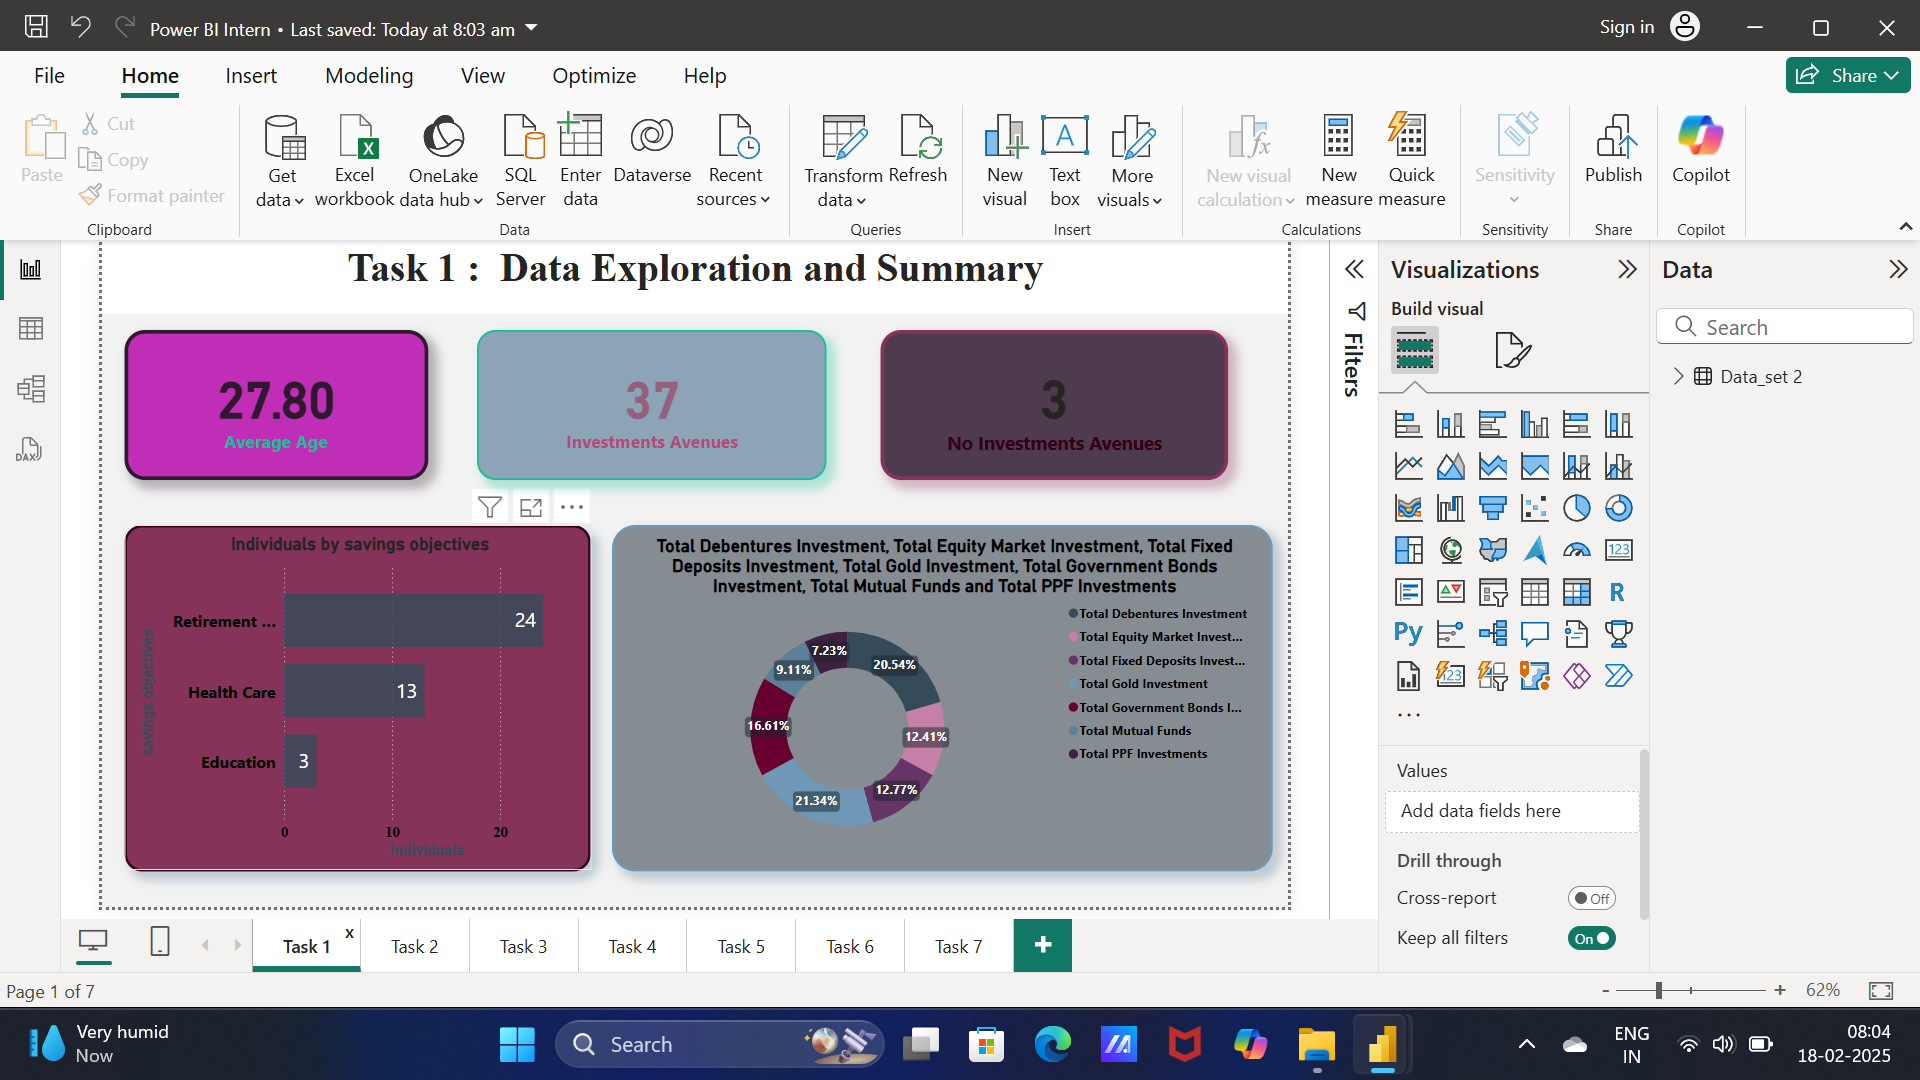

This screenshot's page, from the dashboard's own definition file:
{"tool":"powerbi","page":{"name":"Task 1","canvas":[1280,720],"ordinal":0},"visuals":[{"type":"textbox","box":[0,0,1280.8,79.3],"z":0},{"type":"card","fields":{"Values":["Data_set 2.Average Age"]},"box":[24.8,97.2,327.9,162.1],"z":1000},{"type":"clusteredBarChart","fields":{"Category":["Data_set 2.What are your savings objectives?"],"Y":["CountNonNull(Data_set 2.gender)"]},"box":[24.8,307,503.4,373.7],"z":2000},{"type":"card","fields":{"Values":["Data_set 2.Investments Avenues"]},"box":[404.2,97.2,377.5,162.1],"z":4000},{"type":"card","fields":{"Values":["Data_set 2.No Investments Avenues"]},"box":[840.8,97.2,375.6,162.1],"z":5000},{"type":"donutChart","fields":{"Y":["Data_set 2.Total Debentures","Data_set 2.Total Equity Market","Data_set 2.Total Fixed Deposits","Data_set 2.Total Gold","Data_set 2.Total Government Bonds","Data_set 2.Total Mutual Funds","Data_set 2.Total PPF Investments"]},"box":[550,307,713,374],"z":6000}]}

Visuals, with their boxes on the page's 1280x720 design canvas (x1, y1, x2, y2). These are canvas units, not pixel positions in the 1920x1080 screenshot, which may show the page scaled, cropped or inside an application window:
textbox: <box>0,0,1281,79</box>
card - Data_set 2.Average Age: <box>25,97,353,259</box>
clusteredBarChart - Data_set 2.What are your savings objectives? x CountNonNull(Data_set 2.gender): <box>25,307,528,681</box>
card - Data_set 2.Investments Avenues: <box>404,97,782,259</box>
card - Data_set 2.No Investments Avenues: <box>841,97,1216,259</box>
donutChart - Data_set 2.Total Debentures x Data_set 2.Total Equity Market: <box>550,307,1263,681</box>
